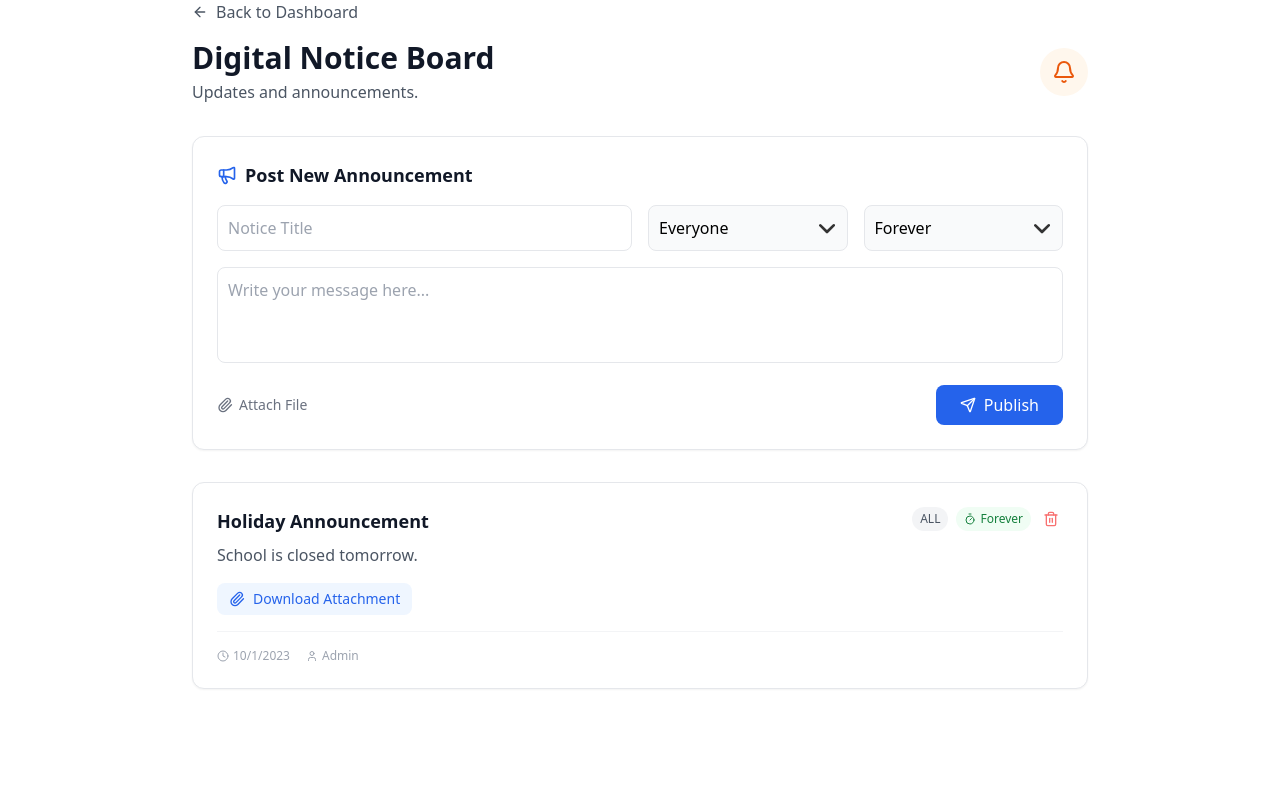
Scenario: NoticesPage Component › handles notice deletion with confirmation
Click the button titled "Delete Notice" at (1051, 519), box [1039,507,1063,531]
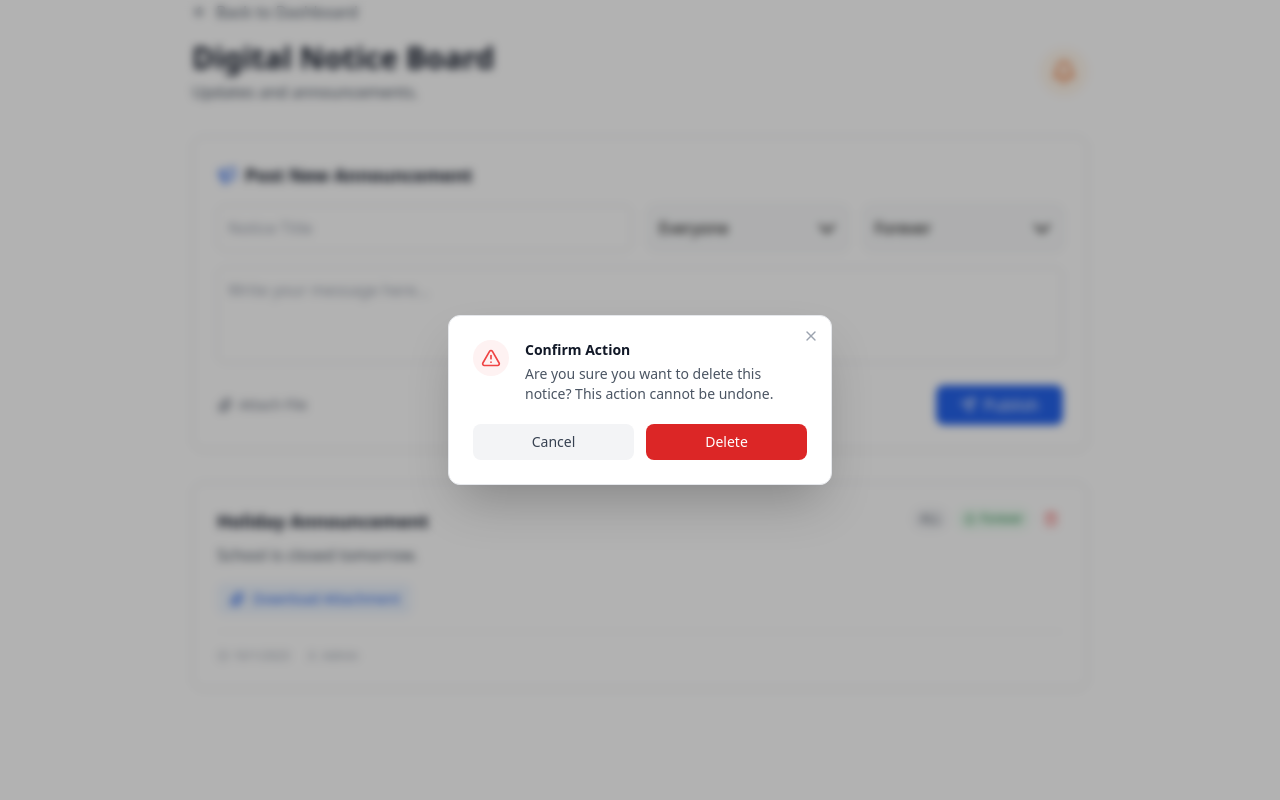
expect the text "Are you sure you want to delete this notice" is shown: met, box [525,364,773,403]
Click the button "Delete" at (726, 442), box [646,424,807,460]
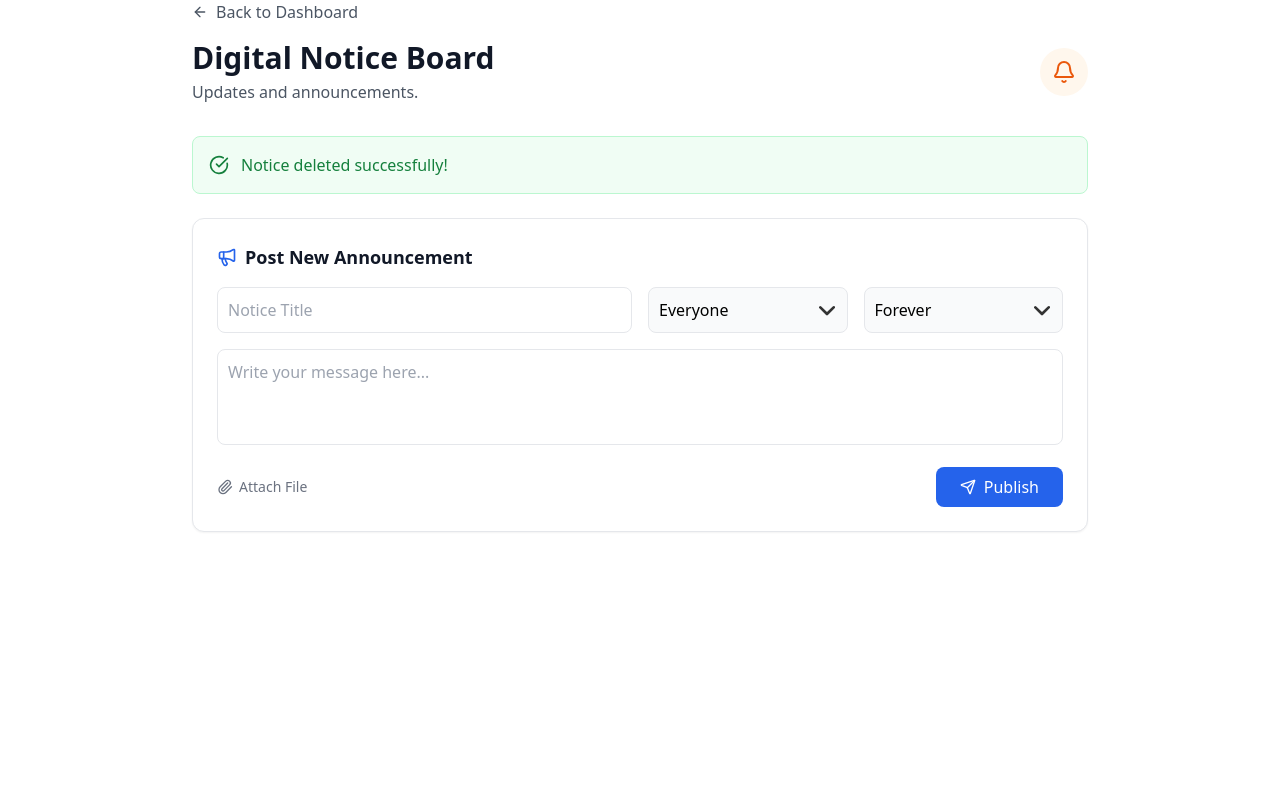
expect the text "Notice deleted successfully!" is shown: met, box [241,153,448,177]
